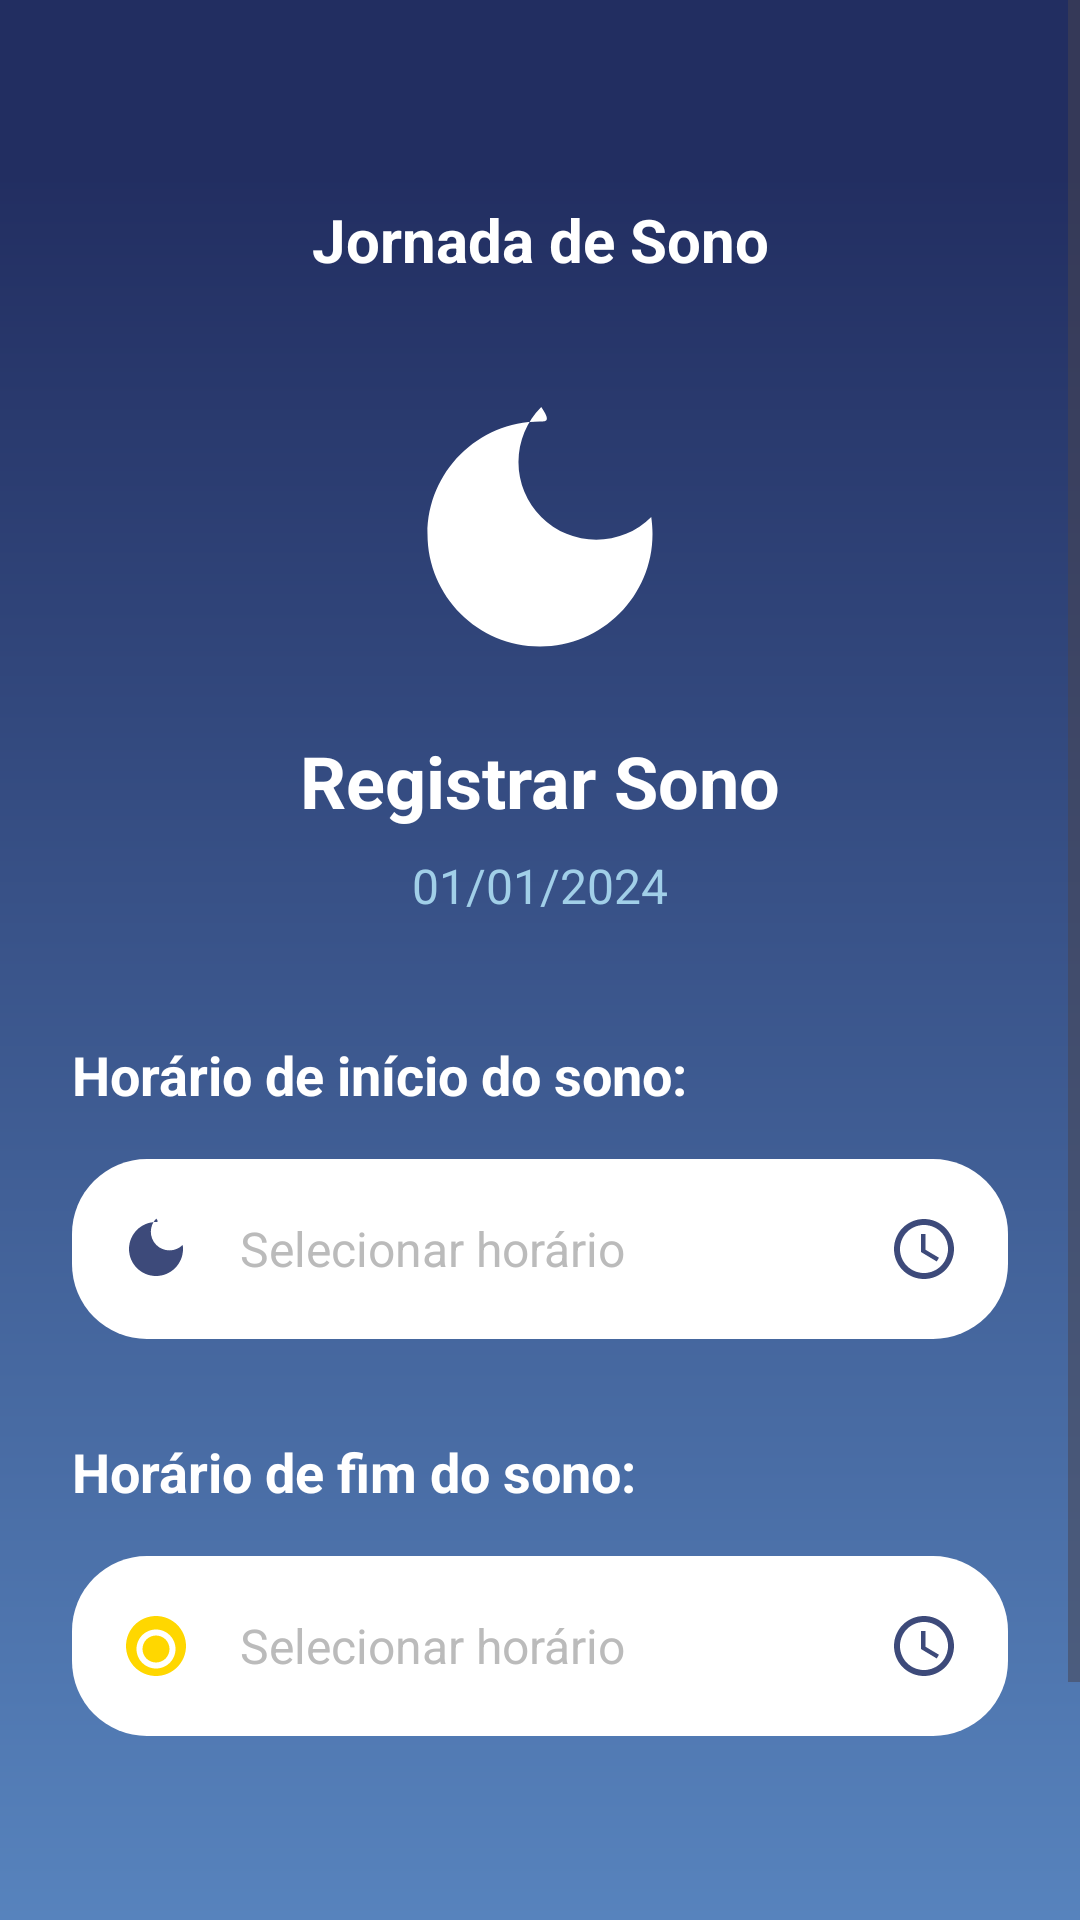

Icons on this 1080x1920 Android screen, each with the point to tap as [x,y]:
clock: [924,1249], [924,1646]
moon: [540,527], [156,1247]
sun: [156,1646]
